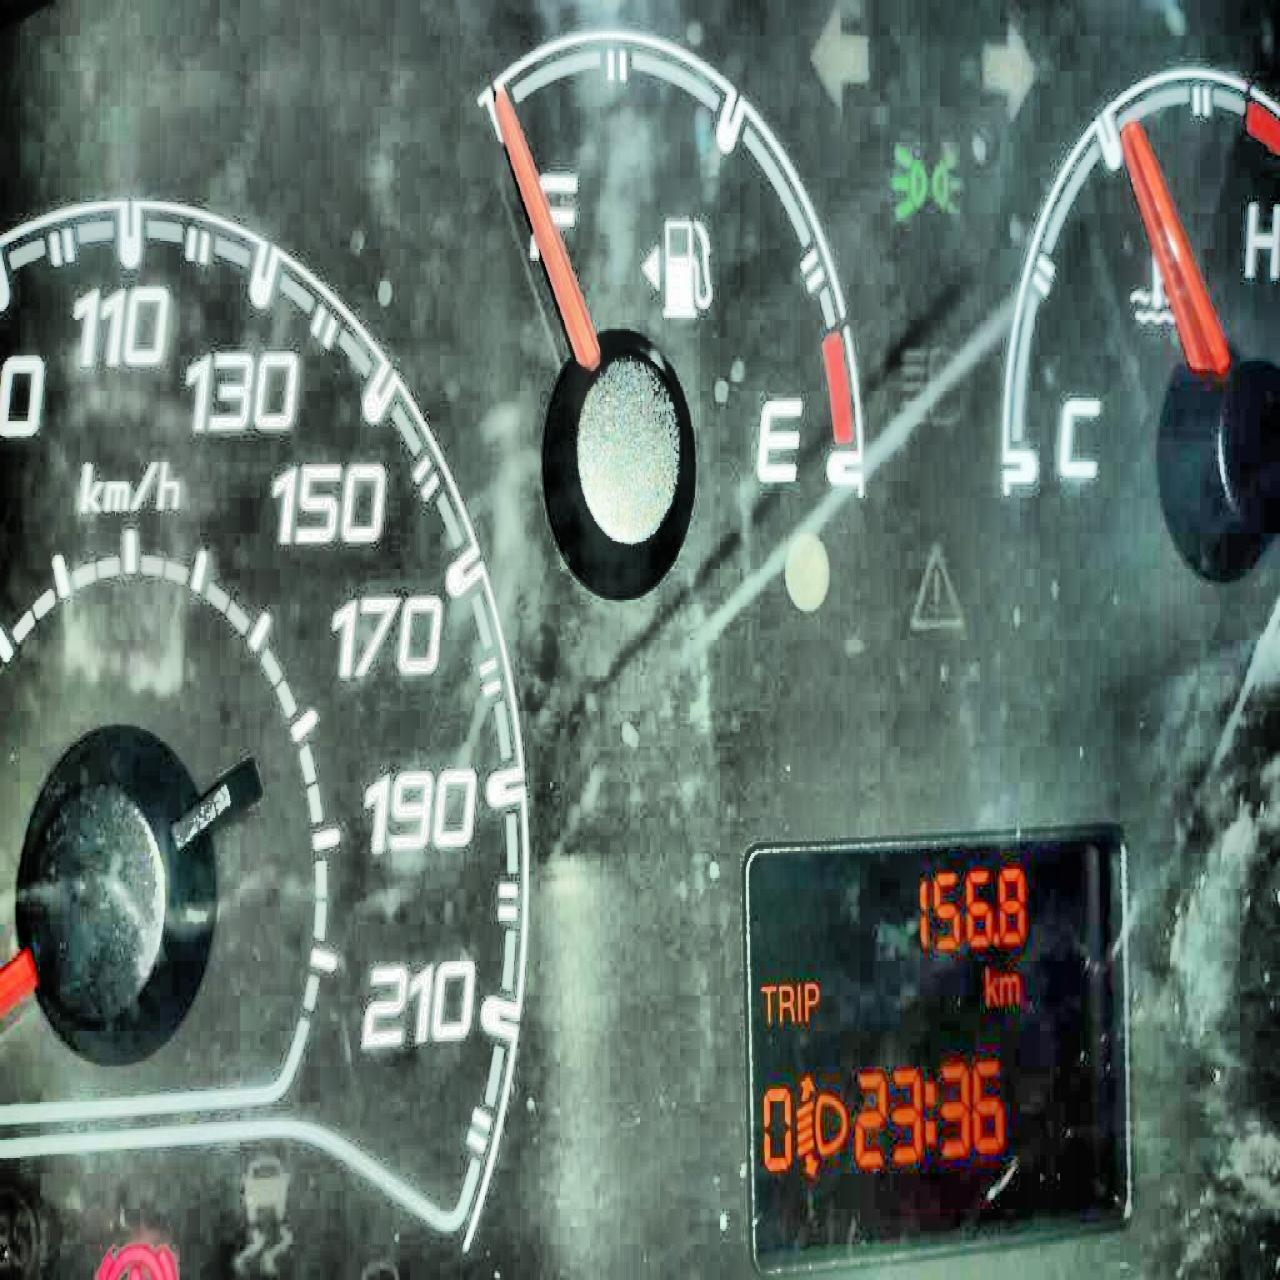-: (993, 930, 999, 949)
0: (760, 1077, 792, 1171)
1: (918, 873, 928, 955)
2: (853, 1069, 886, 1169)
3: (891, 1064, 920, 1164), (939, 1061, 969, 1156)
5: (931, 867, 961, 949)
6: (971, 1056, 1005, 1151), (964, 865, 992, 945)
8: (999, 865, 1028, 942)
X: (922, 1075, 937, 1149), (777, 978, 795, 1029), (757, 975, 775, 1027), (804, 975, 821, 1020), (999, 971, 1019, 1002), (983, 967, 998, 1005), (797, 973, 803, 1029)
odometer: (737, 821, 1137, 1260)
